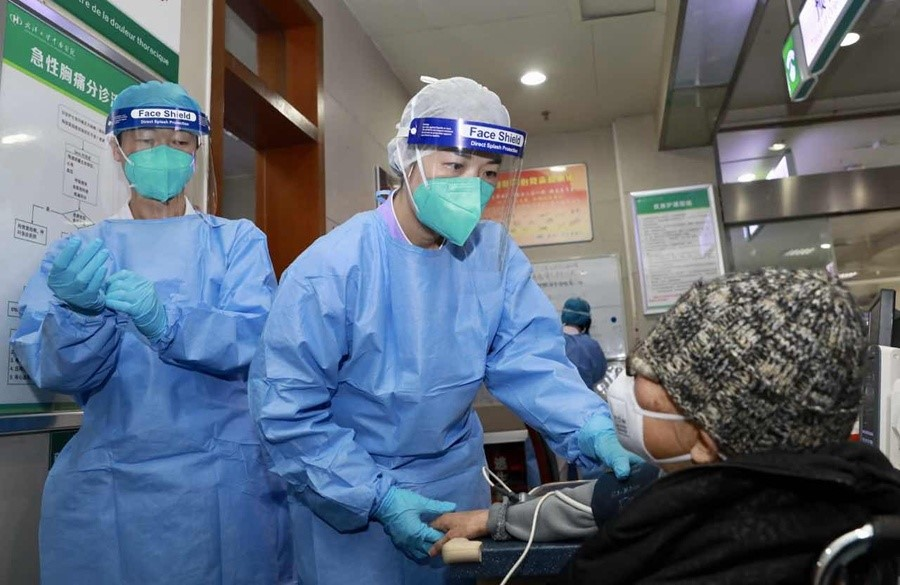face_with_mask: (600, 271, 872, 478), (388, 77, 532, 271), (103, 79, 209, 207)
